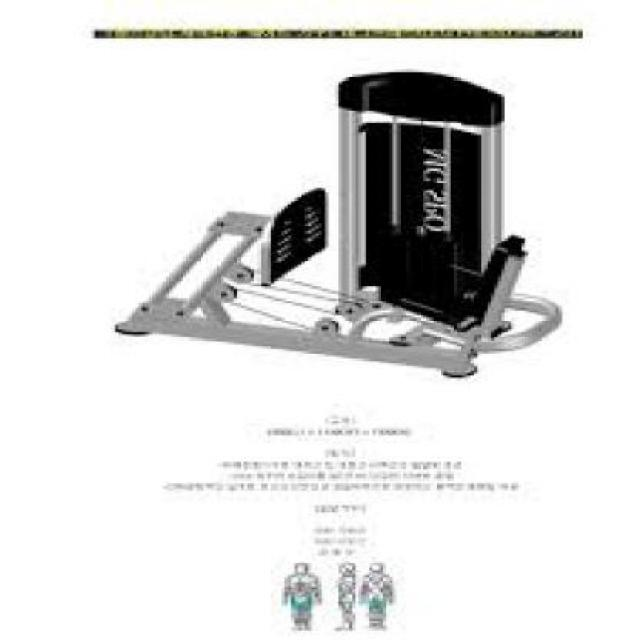leg press: (74, 60, 581, 389)
